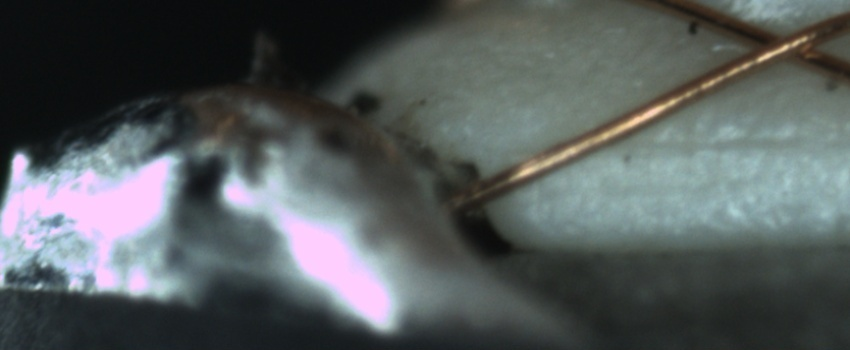CL: (733, 10, 842, 74)
DL: (615, 105, 843, 181)
